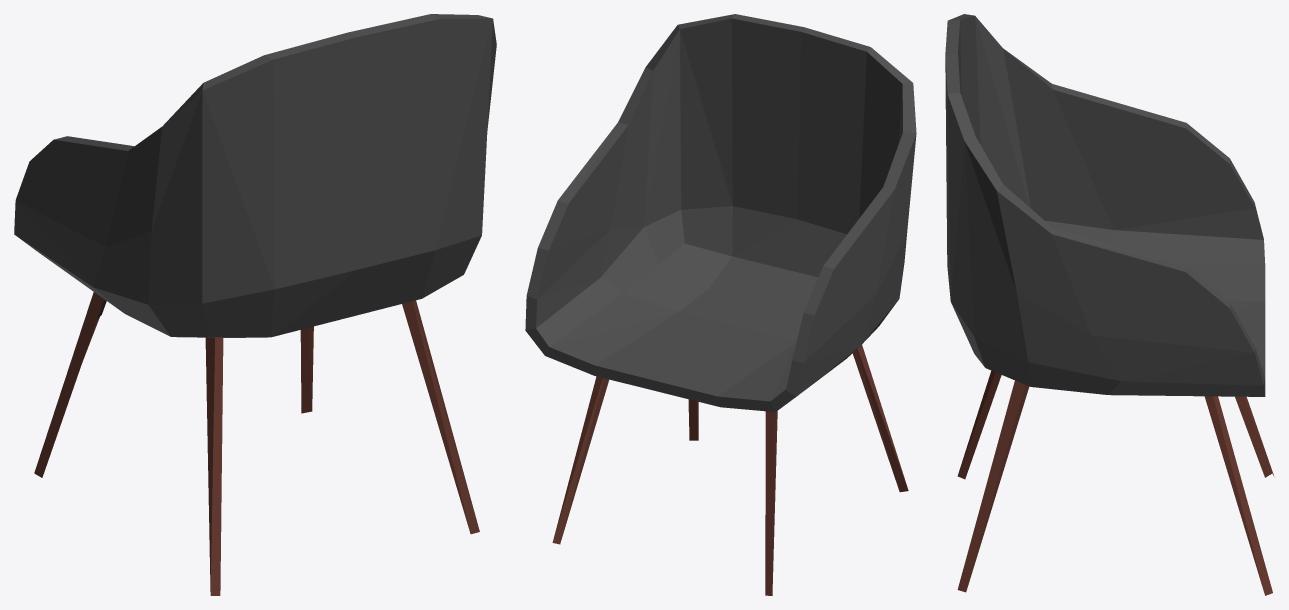
File: KitchenChair.fbx
The picture shows the model from 3 angles, left to right: view 1: azimuth 30°, elevation 25°; view 2: azimuth 150°, elevation 25°; view 3: azimuth 270°, elevation 25°; orthographic projection. The views are drawn at different scales.
Visible parts, largest first — view 1: Cube.015; view 2: Cube.015; view 3: Cube.015.
Boxes of the visible parts, x1=… form: Cube.015: x1=14, y1=14, x2=496, y2=595; Cube.015: x1=525, y1=14, x2=916, y2=595; Cube.015: x1=945, y1=14, x2=1274, y2=595.
Size of the model in its own units: 50.04 by 75.18 by 46.33.
1 material, 1 textured.
